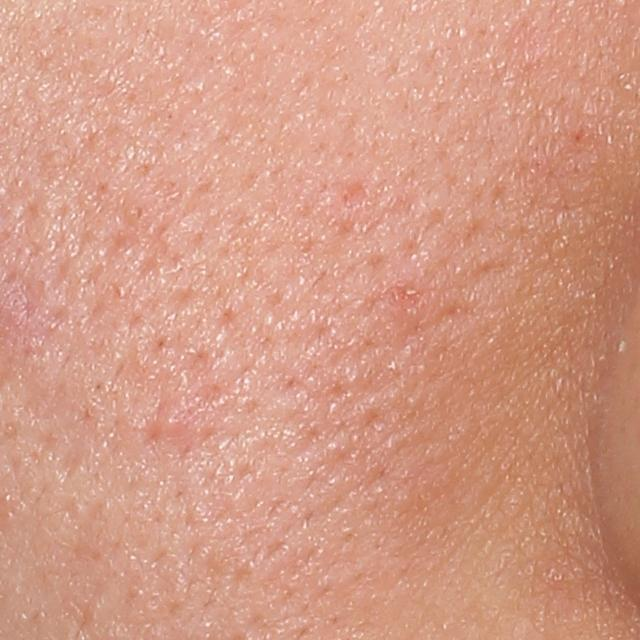papule: (156, 406, 186, 438)
